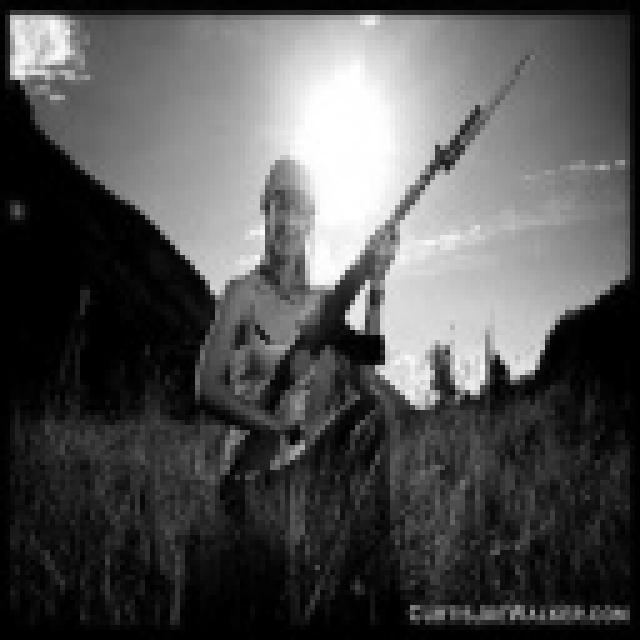Rifle: (153, 36, 571, 514)
